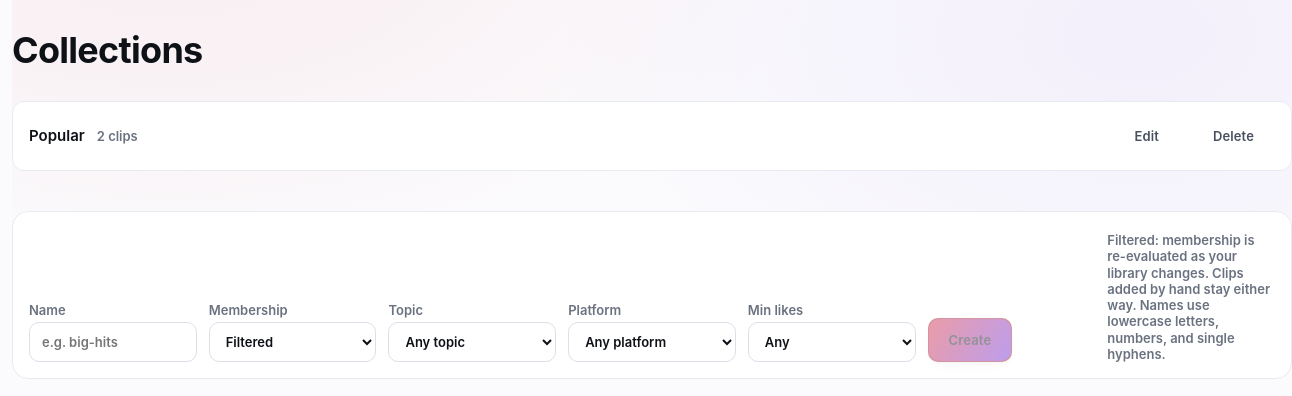
Test: deletes a collection
This screenshot has width=1292, height=396.
Click the button "Delete" at (1233, 136), box [1192,114,1275,158]
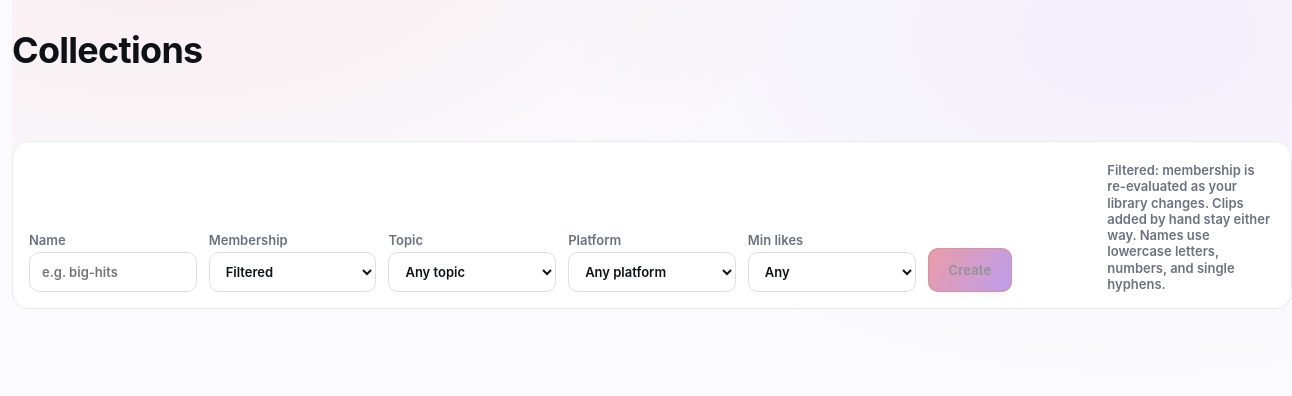
Result: the link "Popular" is gone
